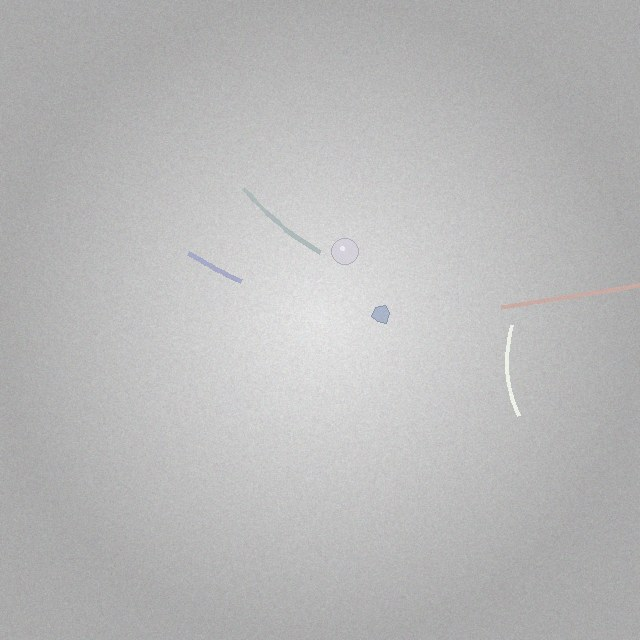fiber: (238, 183, 326, 258), (497, 278, 639, 312), (183, 248, 247, 287), (502, 321, 523, 420)
fragment: (371, 306, 390, 323)
pellet: (331, 238, 358, 265)
